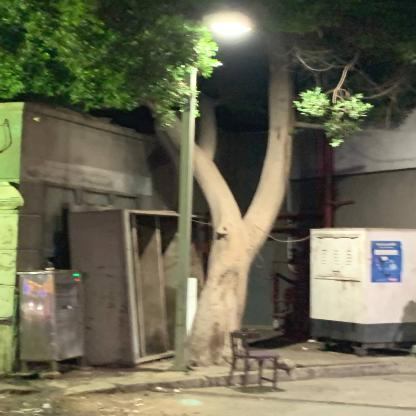light_pole: (168, 11, 254, 371)
